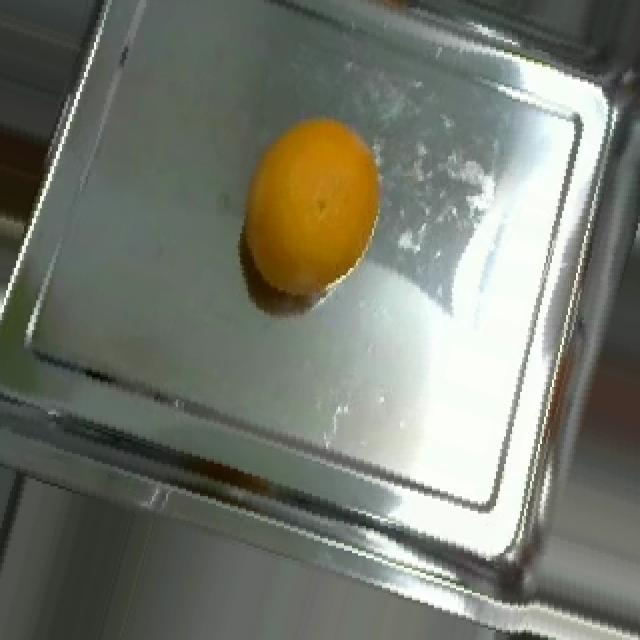Fruit: (220, 99, 402, 325)
